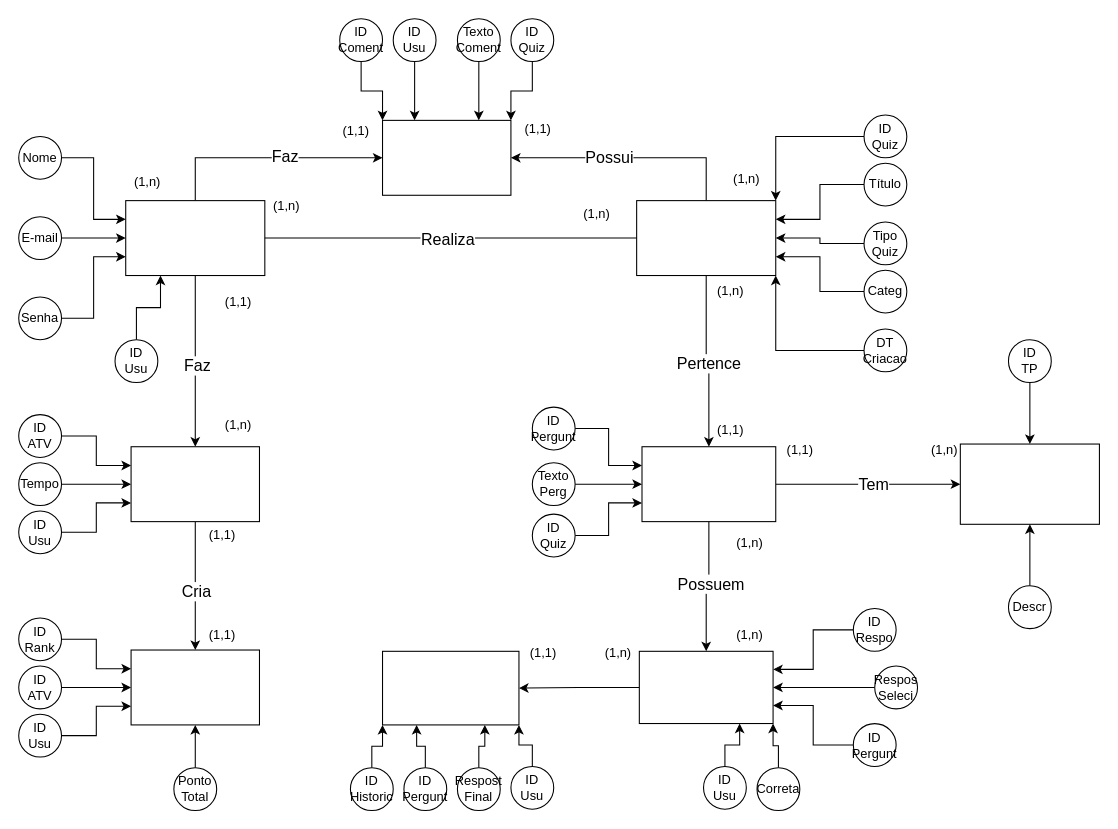
Some shapes in this 1118 by 829 pixel diagram are drawn without their labels. The centre of each missing label's shape, as x and y in pixels:
"Atividades" goes at point (194, 484).
"Comentário" goes at point (446, 157).
"Historico" goes at point (450, 687).
"Perguntas" goes at point (708, 484).
"Quizzes" goes at point (706, 238).
"Ranking" goes at point (194, 687).
"Respostas" goes at point (705, 687).
"Tipo Pergunta" goes at point (1029, 483).
"Usuário" goes at point (195, 238).
